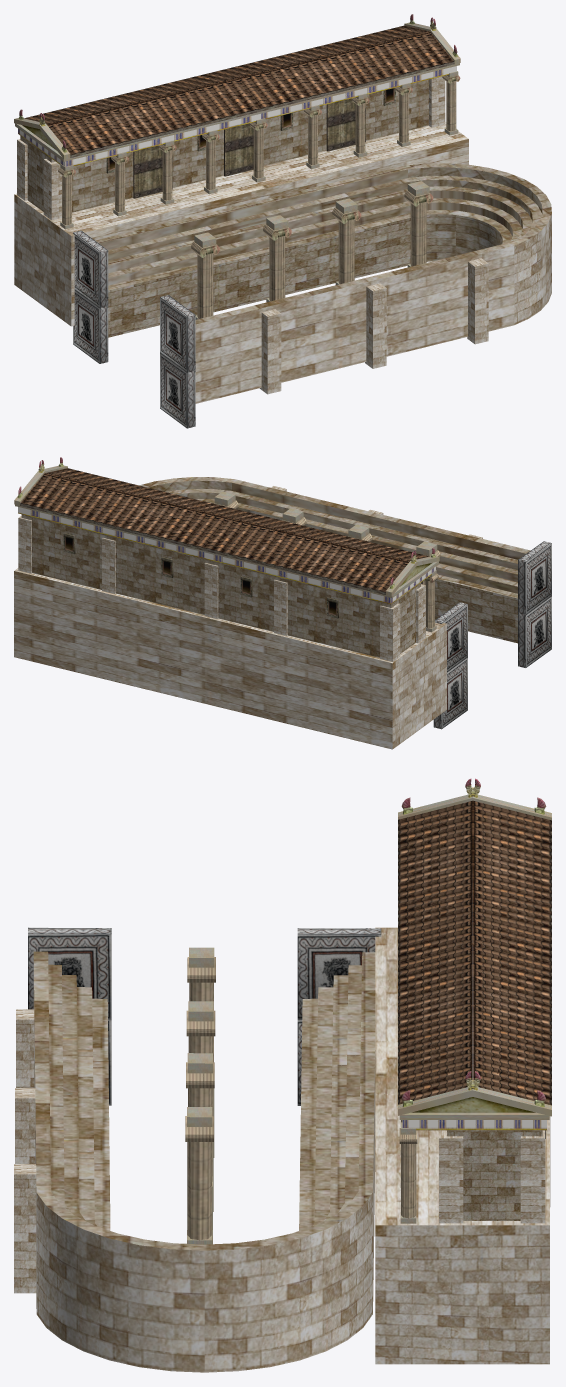
Rendered from hippodrome.dae.
3 views of the same model, one above another, from view 1: azimuth 30°, elevation 25°; view 2: azimuth 150°, elevation 25°; view 3: azimuth 270°, elevation 25° (orthographic). The views are drawn at different scales.
Parts seen in each view (by area): view 1: hippodrome; view 2: hippodrome; view 3: hippodrome.
Boxes of the visible parts, left/top/right/bottom form: hippodrome: left=14, top=14, right=551, bottom=428; hippodrome: left=14, top=457, right=551, bottom=749; hippodrome: left=14, top=778, right=551, bottom=1372.
Bounding box in the file's own units: 34.11 × 25.24 × 16.62.
